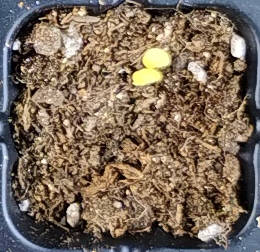chilli seed: (142, 48, 171, 67), (132, 68, 161, 85)
